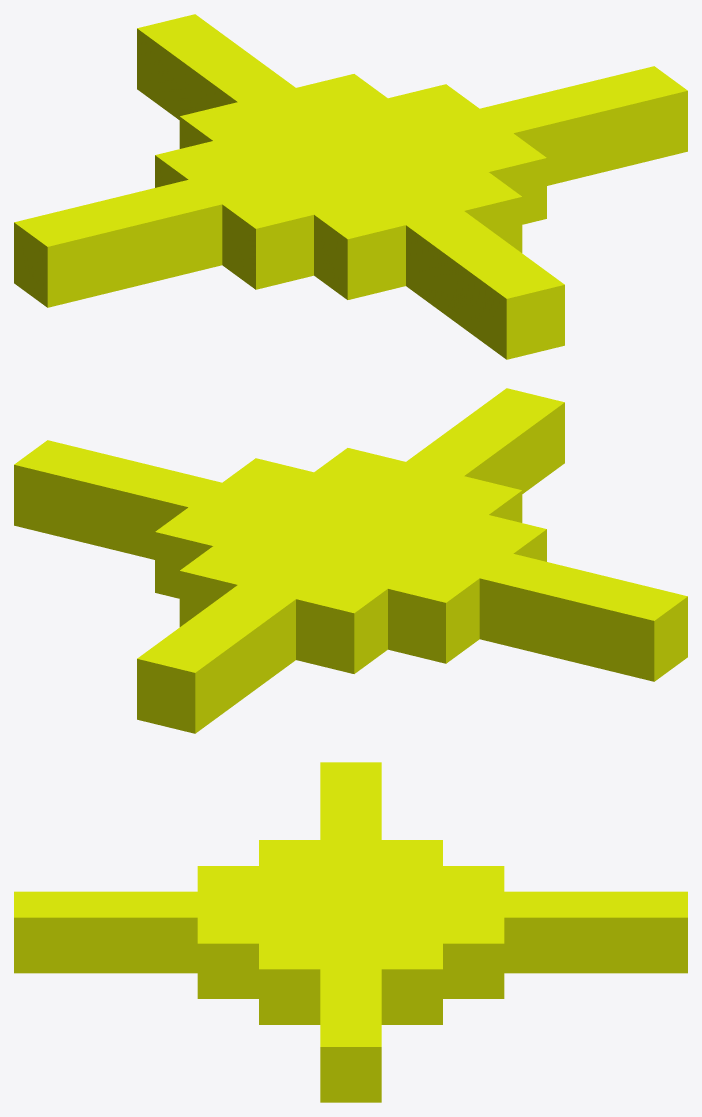
File: puropera.fbx
The picture shows the model from 3 angles, top to bottom: view 1: azimuth 30°, elevation 25°; view 2: azimuth 150°, elevation 25°; view 3: azimuth 270°, elevation 25°; orthographic projection. The views are drawn at different scales.
Parts seen in each view (by area): view 1: montor.001; view 2: montor.001; view 3: montor.001.
Boxes of the visible parts, x1,y1,x2,y2 form: montor.001: (14, 14, 687, 359); montor.001: (14, 388, 687, 733); montor.001: (14, 762, 687, 1102).
Size of the model in its own units: 110 by 10 by 110.
